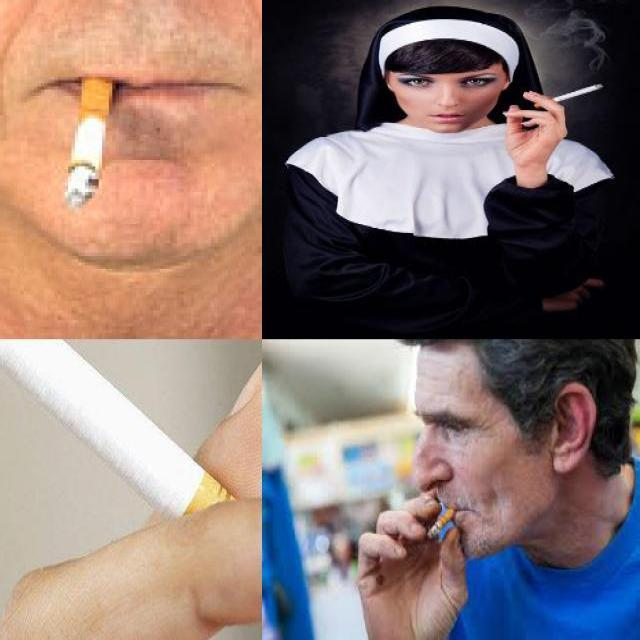smoking: (0, 339, 261, 639), (64, 70, 112, 205), (534, 84, 603, 108), (428, 508, 454, 539)
